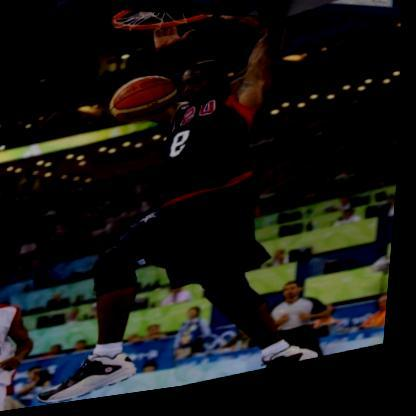basketball: (108, 74, 181, 133)
